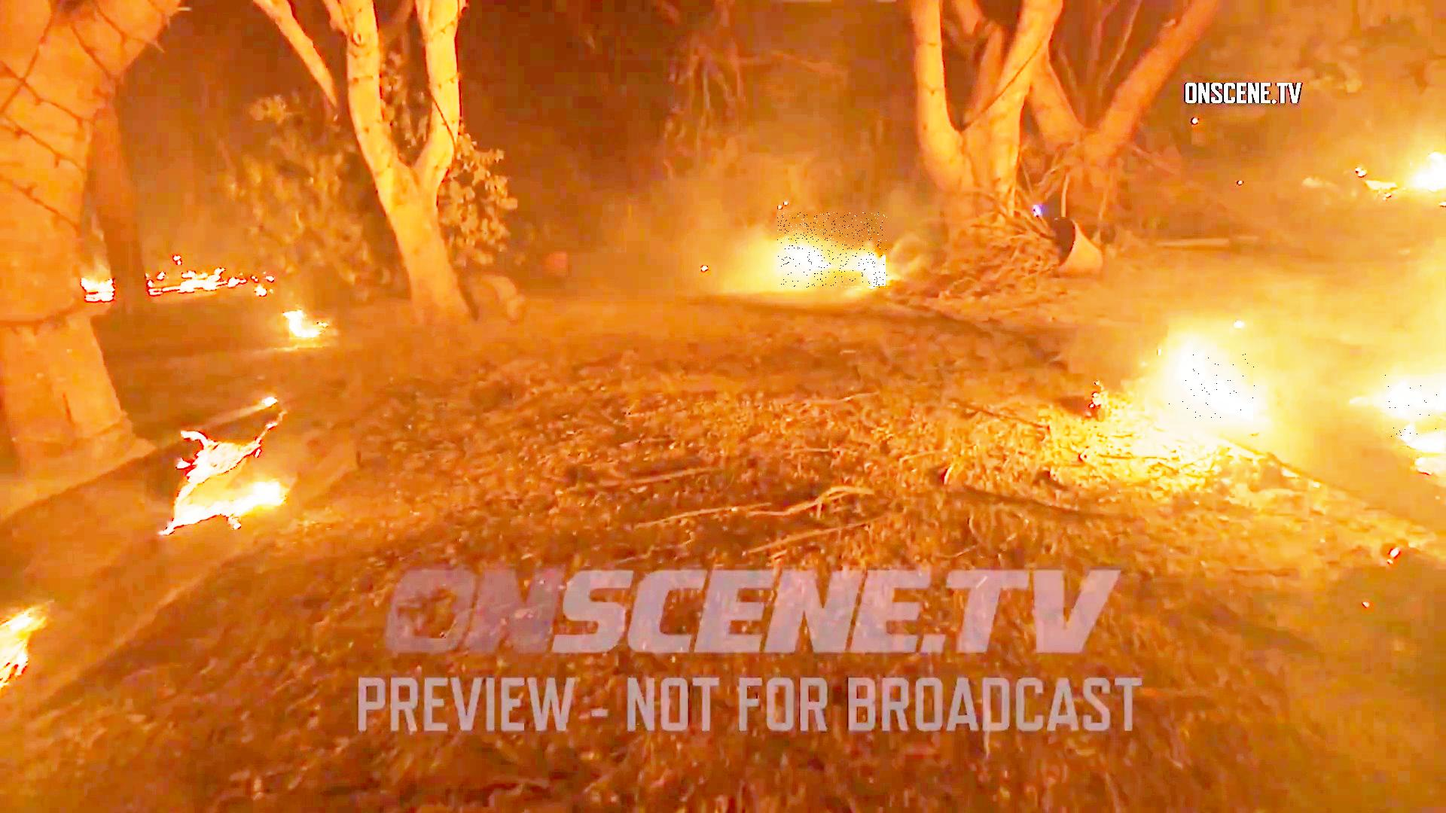fire: (778, 213, 888, 288), (1170, 352, 1255, 425), (1383, 374, 1437, 437)
